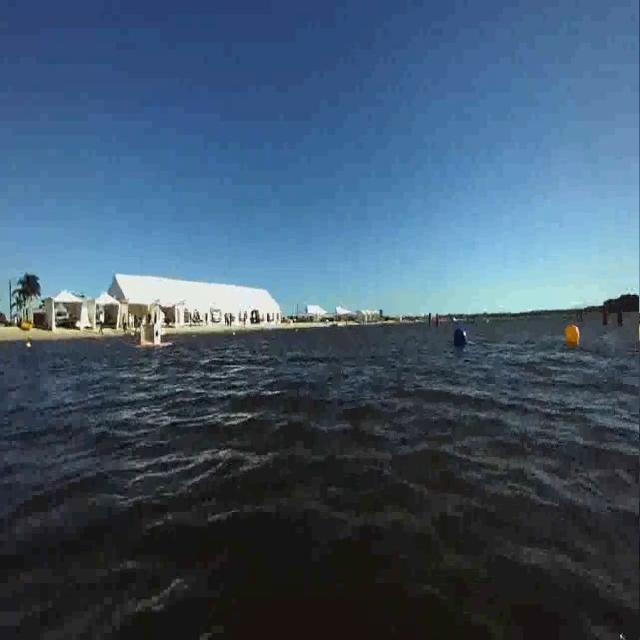blue-buoy: (453, 326, 467, 349)
green-column-buoy: (617, 304, 626, 326)
red-column-buoy: (602, 302, 610, 327)
yellow-buoy: (566, 326, 581, 350)
